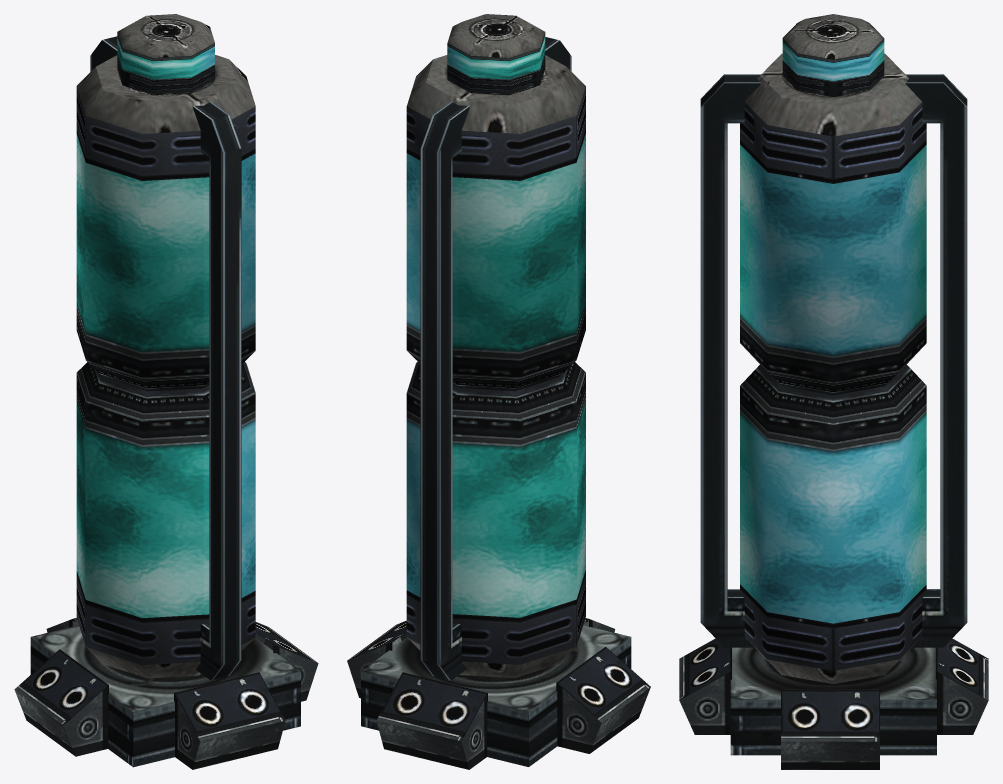
File: Battery_large_04.FBX
The picture shows the model from 3 angles, left to right: view 1: azimuth 30°, elevation 25°; view 2: azimuth 150°, elevation 25°; view 3: azimuth 270°, elevation 25°; orthographic projection.
Parts seen in each view (by area): view 1: Battery_large_04; view 2: Battery_large_04; view 3: Battery_large_04.
Boxes of the visible parts, x1,y1,x2,y2 form: Battery_large_04: (14, 14, 318, 769); Battery_large_04: (347, 14, 650, 769); Battery_large_04: (679, 14, 988, 769).
Bounding box in the file's own units: 189 × 482 × 198.
